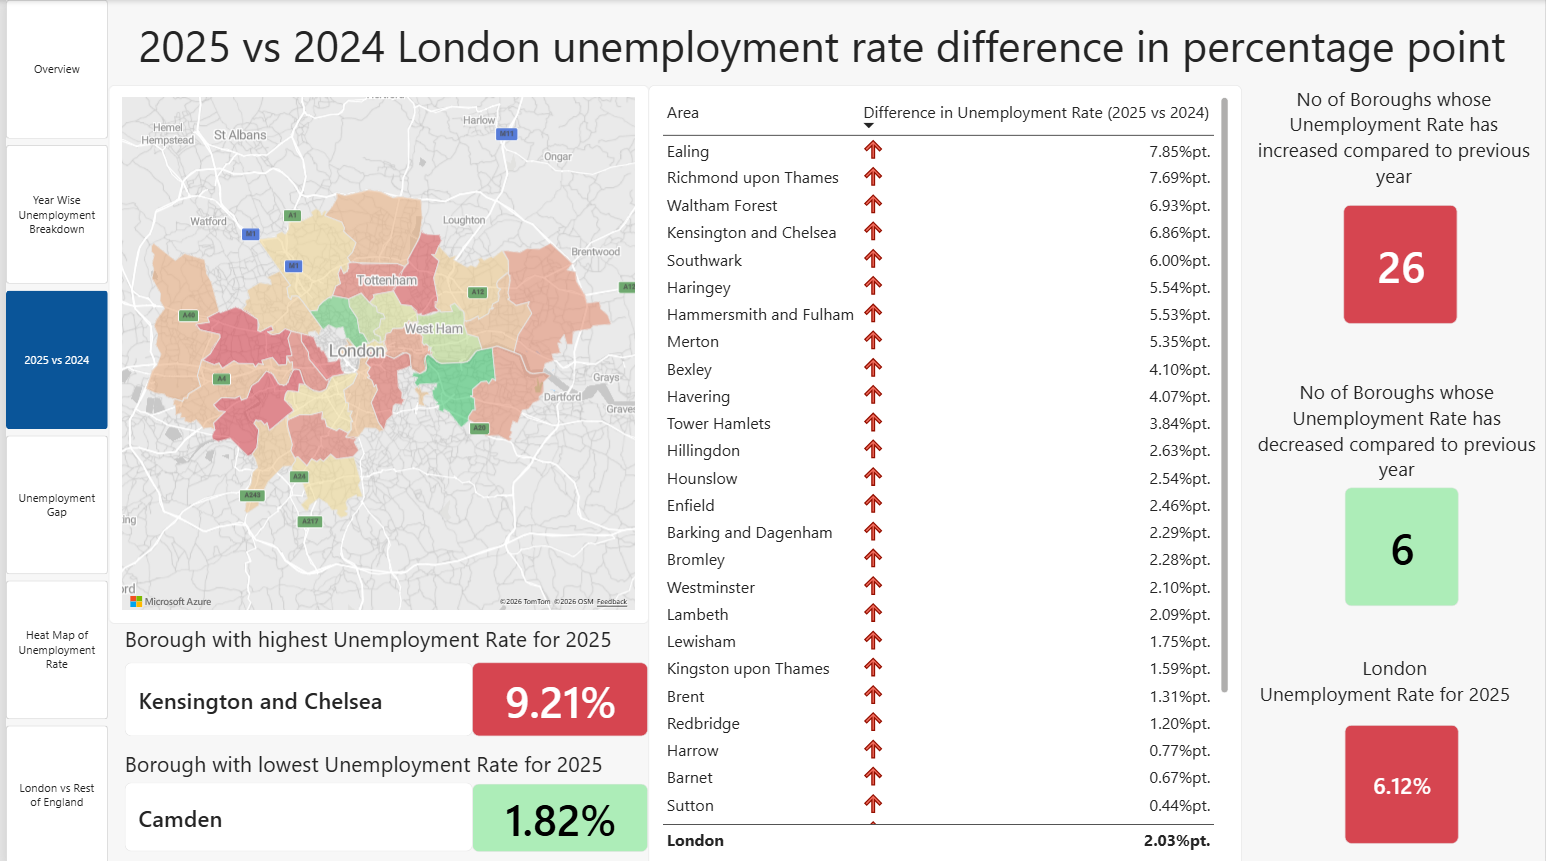

What the dashboard file says about the page in this screenshot:
{"tool":"powerbi","page":{"name":"2025 vs 2024","canvas":[1920,1080],"ordinal":2},"visuals":[{"type":"azureMap","fields":{"Category":["All_data.Country Hierarchy.Country","All_data.Country Hierarchy.City","All_data.Country Hierarchy.Area"]},"box":[128,106,674,672],"z":0},{"type":"tableEx","fields":{"Values":["All_data.Area","All_data.Unemployment Rate Difference"]},"box":[802,106,740,974],"z":1000},{"type":"cardVisual","fields":{"Data":["All_data.Unemployment Increase Boroughs"]},"box":[1668,256,142,148],"z":2000},{"type":"cardVisual","fields":{"Data":["All_data.Highest Unemployment Borough"]},"box":[148,826,434.3,92.6],"z":3000},{"type":"cardVisual","fields":{"Data":["All_data.Highest Unemployment Borough Rate"]},"box":[582,826,219.8,92.4],"z":4000},{"type":"cardVisual","fields":{"Data":["All_data.Lowest Unemployment Borough Rate"]},"box":[582,978,219.8,85.5],"z":5000},{"type":"cardVisual","fields":{"Data":["All_data.Lowest Unemployment Borough Name"]},"box":[148,976,434.3,86.4],"z":6000},{"type":"cardVisual","fields":{"Data":["All_data.London Unemployment Latest or Borough"]},"box":[1670,904,142,148],"z":7000},{"type":"textbox","box":[1558,106,347.1,136],"z":8000},{"type":"textbox","box":[1564,848,337.6,32.9],"z":9000},{"type":"textbox","box":[1550,472,369.8,136],"z":10000},{"type":"cardVisual","fields":{"Data":["All_data.No of Boroughs whose Unemployment has decreased Compared to previous Year"]},"box":[1670,608,142,148],"z":11000},{"type":"textbox","box":[148,778,622.7,48.8],"z":12000},{"type":"textbox","box":[148,934,654.1,36.6],"z":13000},{"type":"textbox","box":[164.7,20.6,1712.5,86.4],"z":14000},{"type":"pageNavigator","box":[0,0,127.6,1080.6],"z":15000},{"type":"cardVisual","fields":{"Data":["All_data.London or Borough"]},"box":[1564,802,337.6,61.7],"z":16000}]}

Visuals, with their boxes on the page's 1920x1080 design canvas (x1, y1, x2, y2). These are canvas units, not pixel positions in the 1546x861 screenshot, which may show the page scaled, cropped or inside an application window:
azureMap - All_data.Country Hierarchy.Country x All_data.Country Hierarchy.City: (left=128, top=106, right=802, bottom=778)
tableEx - All_data.Area x All_data.Unemployment Rate Difference: (left=802, top=106, right=1542, bottom=1080)
cardVisual - All_data.Unemployment Increase Boroughs: (left=1668, top=256, right=1810, bottom=404)
cardVisual - All_data.Highest Unemployment Borough: (left=148, top=826, right=582, bottom=919)
cardVisual - All_data.Highest Unemployment Borough Rate: (left=582, top=826, right=802, bottom=918)
cardVisual - All_data.Lowest Unemployment Borough Rate: (left=582, top=978, right=802, bottom=1064)
cardVisual - All_data.Lowest Unemployment Borough Name: (left=148, top=976, right=582, bottom=1062)
cardVisual - All_data.London Unemployment Latest or Borough: (left=1670, top=904, right=1812, bottom=1052)
textbox: (left=1558, top=106, right=1905, bottom=242)
textbox: (left=1564, top=848, right=1902, bottom=881)
textbox: (left=1550, top=472, right=1920, bottom=608)
cardVisual - All_data.No of Boroughs whose Unemployment has decreased Compared to previous Year: (left=1670, top=608, right=1812, bottom=756)
textbox: (left=148, top=778, right=771, bottom=827)
textbox: (left=148, top=934, right=802, bottom=971)
textbox: (left=165, top=21, right=1877, bottom=107)
pageNavigator: (left=0, top=0, right=128, bottom=1081)
cardVisual - All_data.London or Borough: (left=1564, top=802, right=1902, bottom=864)
